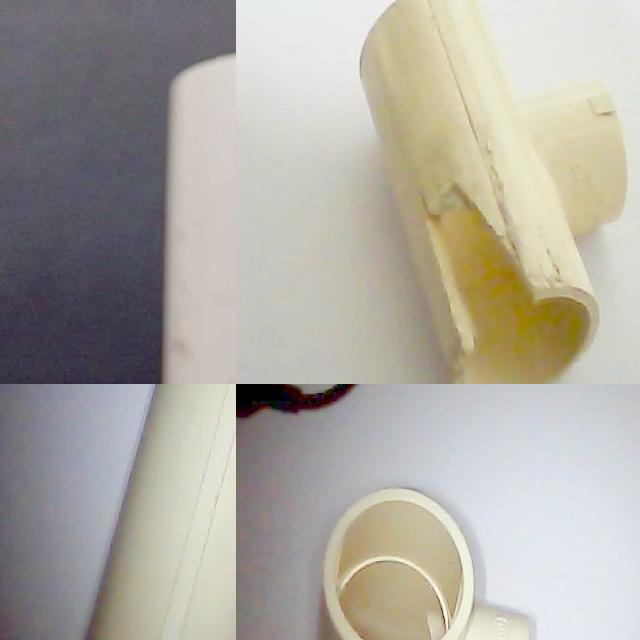Defective: (416, 184, 544, 356), (430, 210, 539, 352), (216, 49, 236, 205)
T Joint: (358, 0, 626, 384), (82, 384, 236, 640), (310, 488, 537, 640), (160, 54, 236, 384)
